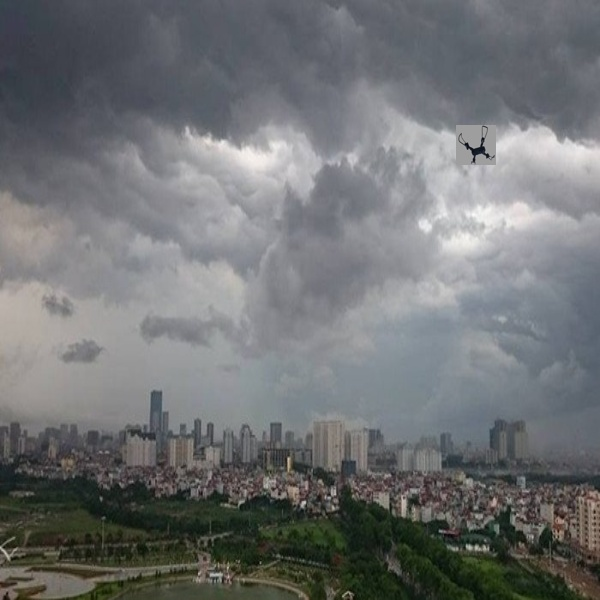drone: (455, 121, 500, 166)
